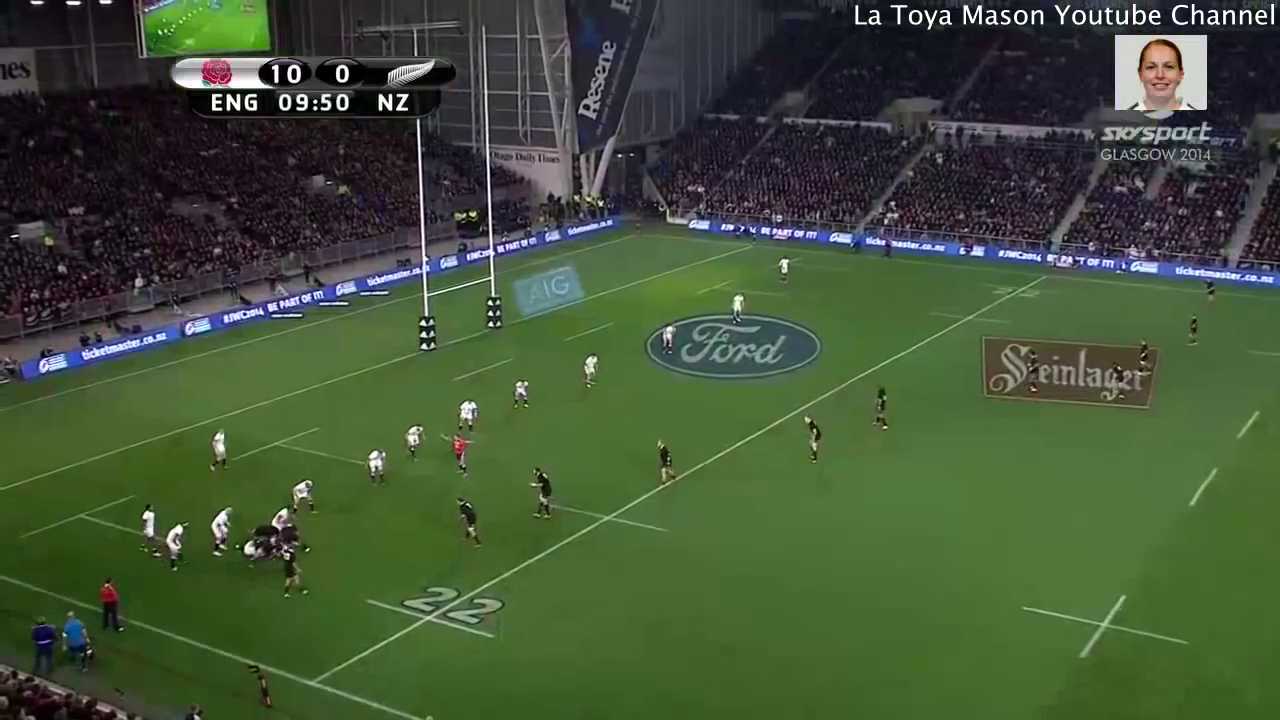10_metre: (1015, 590, 1195, 661)
player: (197, 498, 235, 560), (436, 428, 480, 478), (450, 493, 485, 554), (156, 520, 190, 576), (280, 543, 311, 601), (796, 408, 828, 464), (649, 436, 682, 489), (527, 462, 556, 520), (287, 473, 323, 519), (206, 423, 237, 476), (360, 445, 394, 488), (139, 496, 161, 562), (869, 379, 893, 434), (400, 416, 426, 464), (1019, 342, 1042, 395), (1102, 360, 1133, 399), (456, 393, 481, 436), (1132, 335, 1153, 380), (657, 318, 678, 358), (581, 350, 601, 392), (1182, 309, 1201, 349), (729, 289, 747, 329), (774, 253, 795, 286), (511, 377, 532, 409), (1201, 276, 1220, 305)
post: (415, 168, 508, 358)
ruck: (230, 503, 320, 559)
